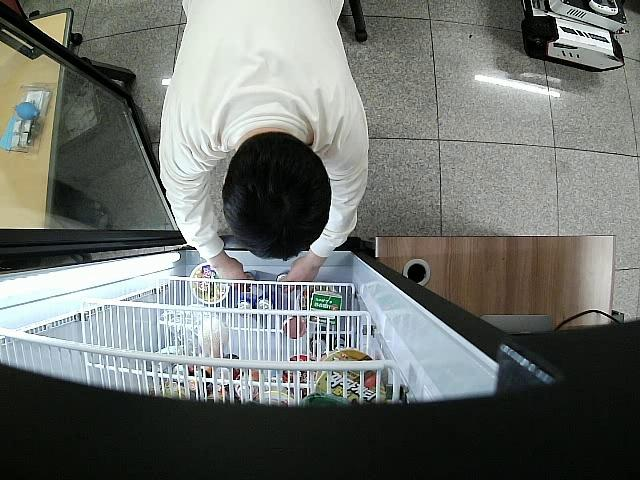00_hand: (280, 262, 321, 293), (219, 257, 253, 293)
